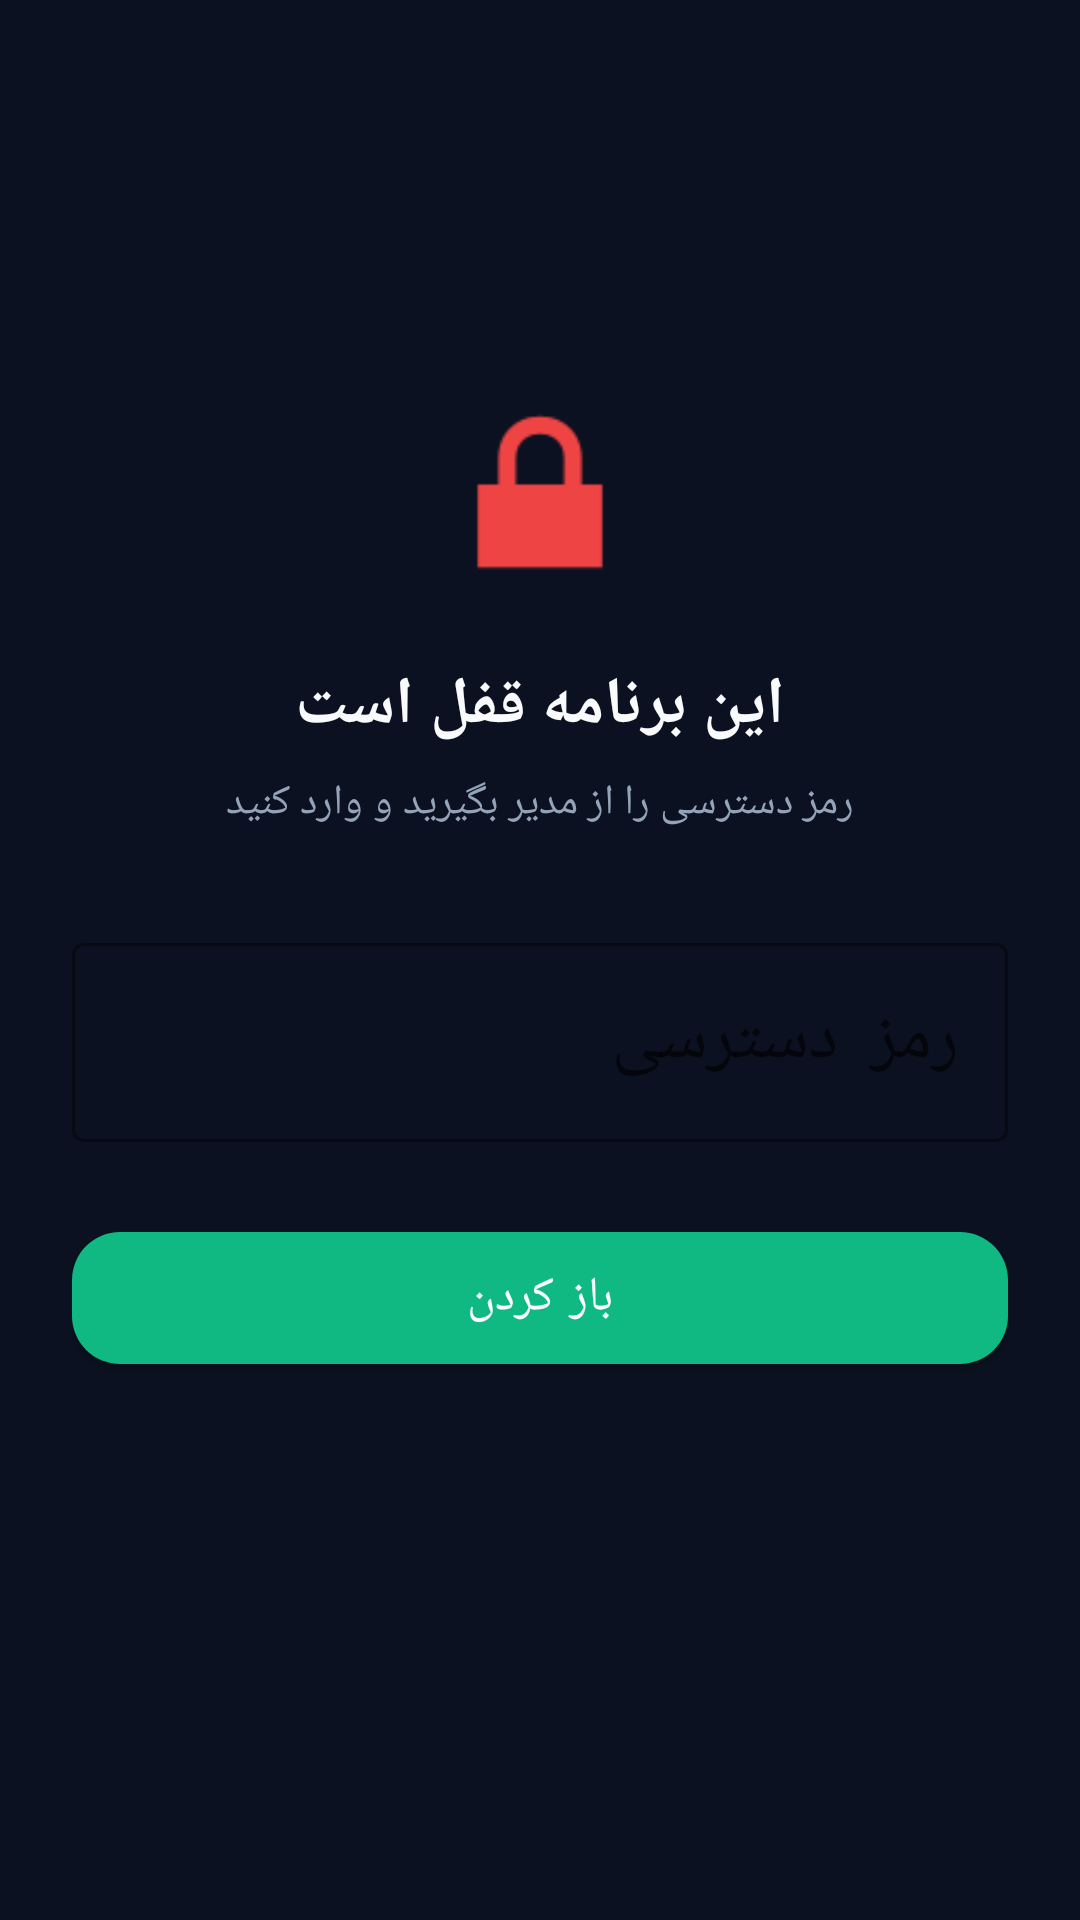

Icons on this 1080*1920 Android screen, each with the point to tap as [x,y]:
lock: [540,492]
